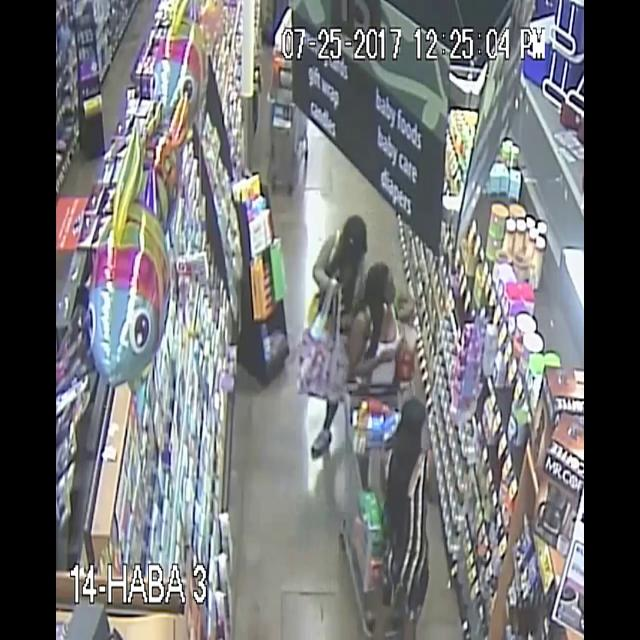normal: (352, 255, 426, 399), (293, 168, 373, 272)
shoplifting: (382, 393, 448, 636)
